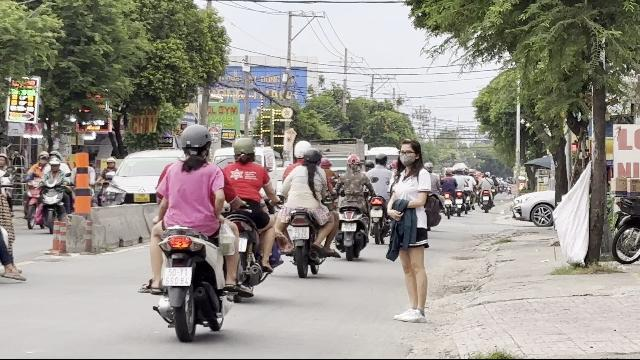helmet: (177, 122, 213, 162), (232, 136, 256, 162), (292, 140, 312, 160), (303, 146, 321, 166)
licenseplate: (164, 267, 192, 285), (291, 226, 309, 240)
motorcyclist: (138, 116, 240, 342), (219, 136, 277, 298), (271, 139, 337, 276)
